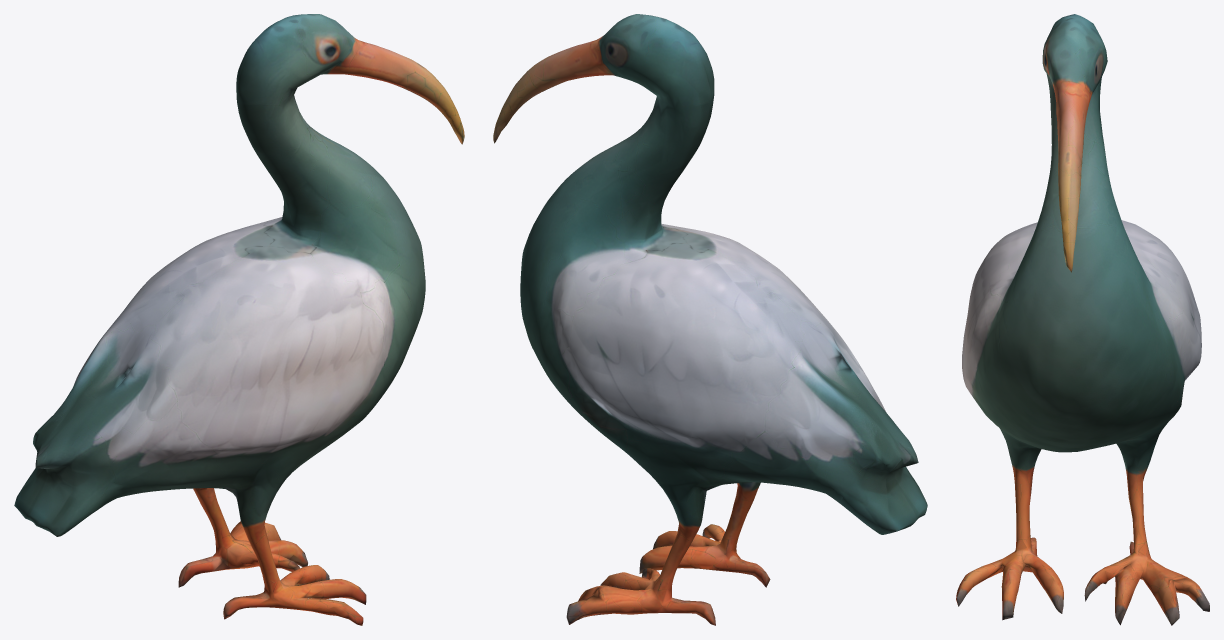
Rendered from University_of_Miami's_mascot,_Sebastian_the_Ibis_0430211240_refine.fbx.
3 renders of one model, left to right at view 1: azimuth 30°, elevation 25°; view 2: azimuth 150°, elevation 25°; view 3: azimuth 270°, elevation 25°, orthographic. The views are drawn at different scales.
Parts seen in each view (by area): view 1: Mesh_0; view 2: Mesh_0; view 3: Mesh_0.
Part boxes in pixels (x1,y1,x2,y2): Mesh_0: (14, 14, 464, 625); Mesh_0: (493, 14, 927, 625); Mesh_0: (956, 14, 1209, 625).
Size of the model in its own units: 93.93 by 120 by 46.87.
Materials: 1 (1 with a texture image).
